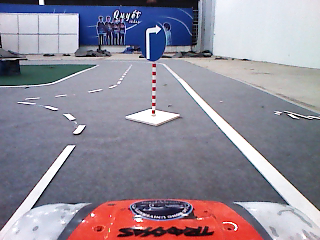turn: (137, 21, 167, 62)
